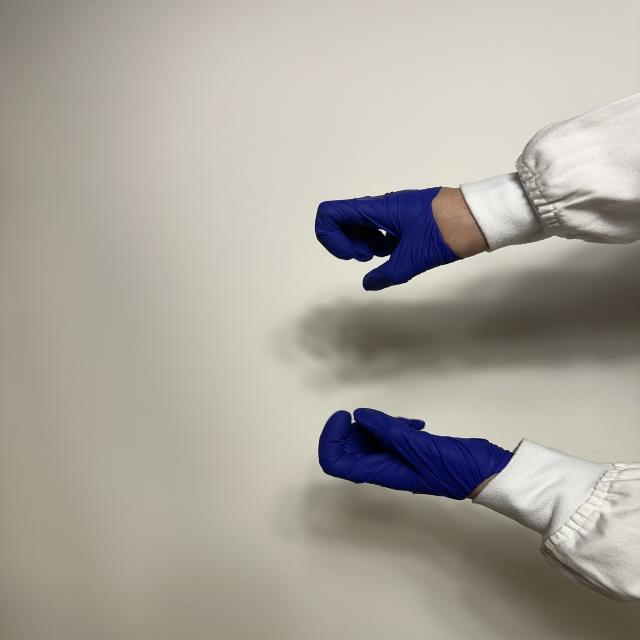glove_not_fitted: (316, 407, 518, 506), (312, 184, 492, 290)
